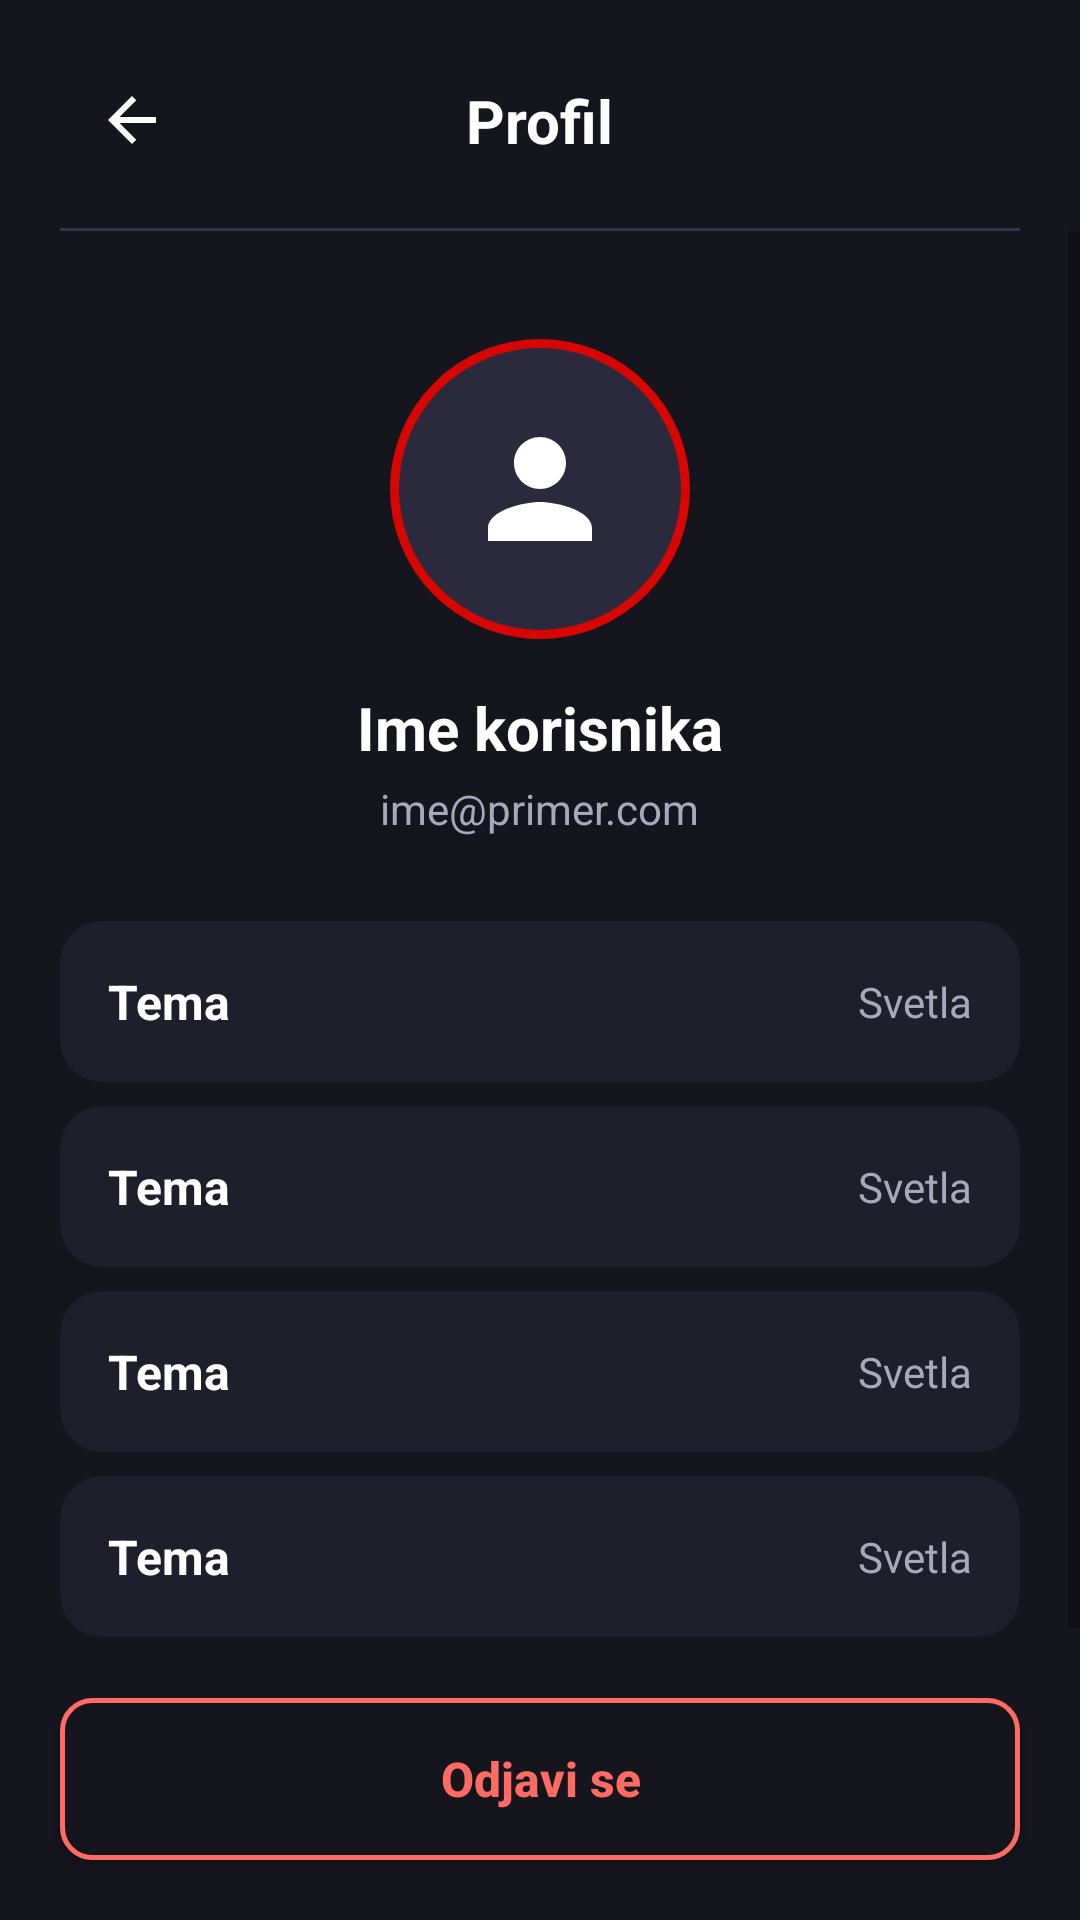

Icon click points for this 1080×1920 phone screenshot, format (x=x, y=y):
Avatar korisnika: (x=540, y=489)
Nazad: (x=132, y=120)
